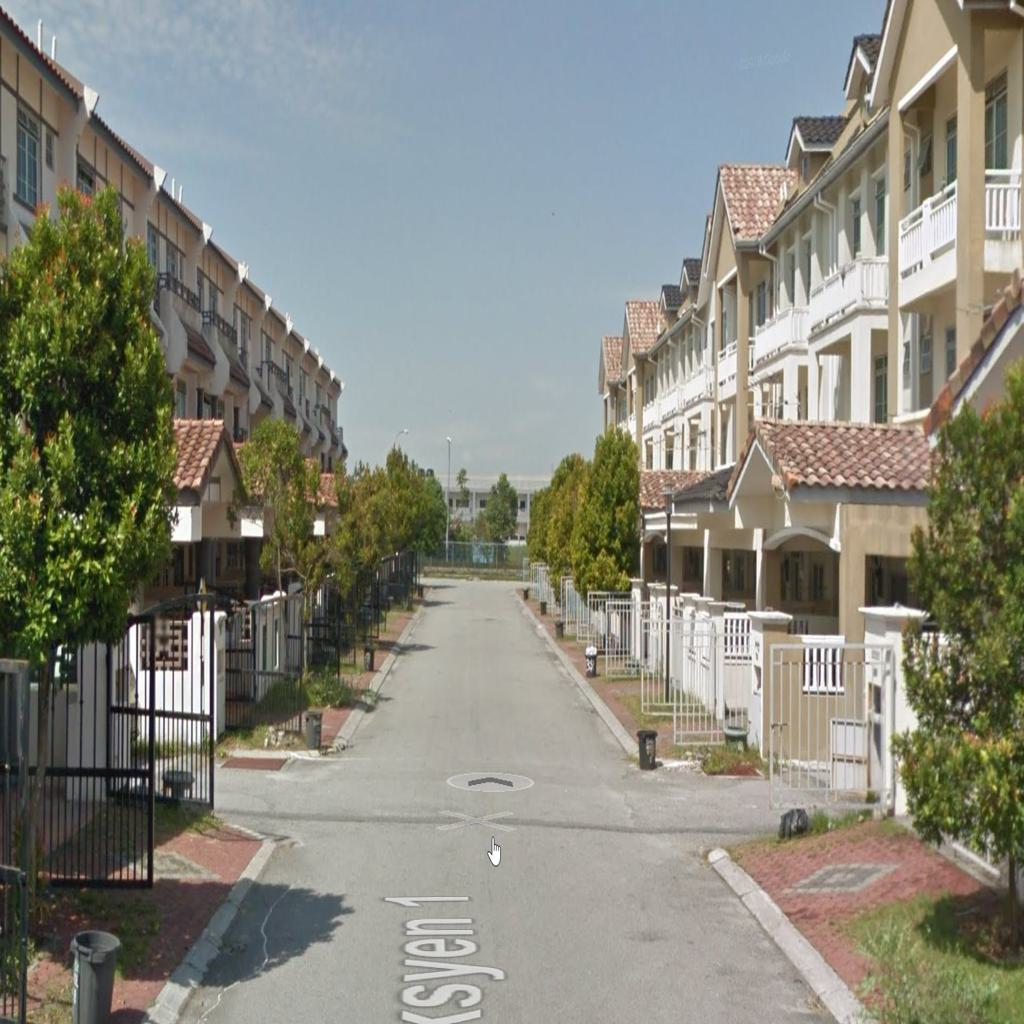Junction: (139, 706, 374, 888), (603, 735, 865, 876)
